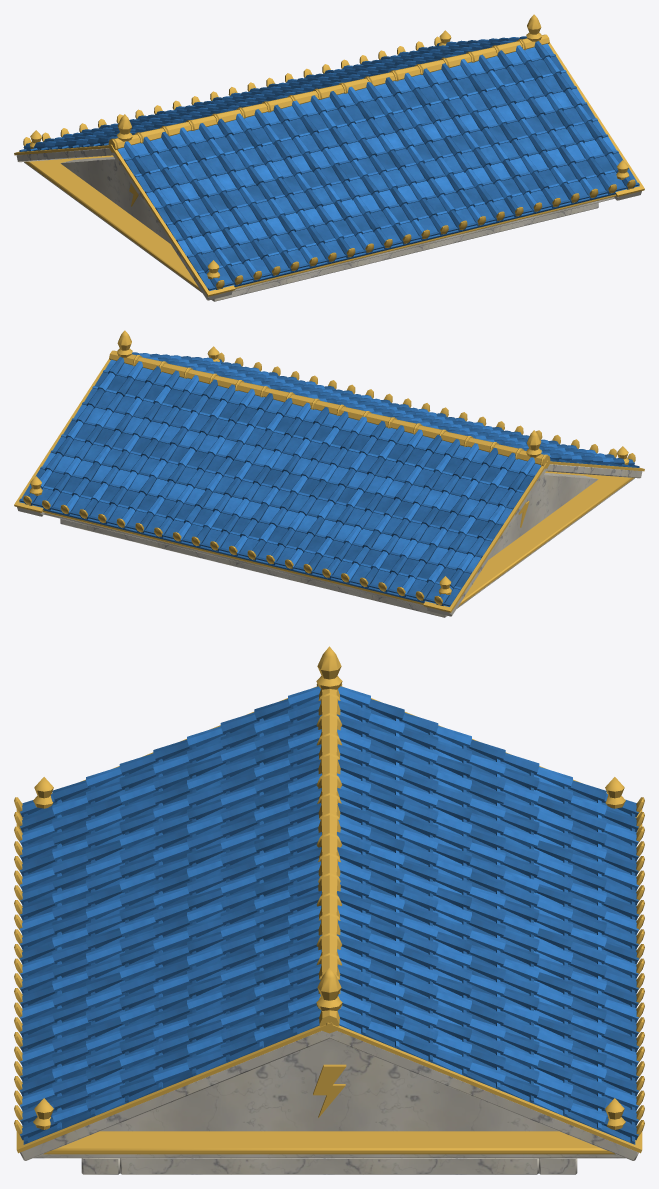
The model's file is home_villa-roof_t3_azure.glb.
The picture shows the model from 3 angles, top to bottom: view 1: azimuth 30°, elevation 25°; view 2: azimuth 150°, elevation 25°; view 3: azimuth 270°, elevation 25°; orthographic projection. The views are drawn at different scales.
Visible parts, largest first — view 1: tile0, tile1, tile2, gold, marble; view 2: tile0, tile1, tile2, gold, marble; view 3: tile1, tile0, tile2, marble, gold.
Part boxes in pixels (box(x1,y1,x2,y2)): tile0: box(21, 36, 639, 290); tile1: box(19, 37, 639, 290); tile2: box(30, 37, 629, 280); gold: box(14, 14, 644, 296); marble: box(16, 148, 641, 301); tile0: box(19, 352, 637, 606); tile1: box(19, 353, 639, 606); tile2: box(29, 353, 628, 596); gold: box(14, 330, 644, 612); marble: box(17, 464, 642, 617); tile1: box(20, 699, 638, 1143); tile0: box(20, 700, 638, 1144); tile2: box(20, 686, 638, 1129); marble: box(20, 830, 638, 1174); gold: box(14, 646, 644, 1154).
Size of the model in its own units: 7.36 by 2.17 by 5.73.
Materials: 5 (4 with a texture image).
